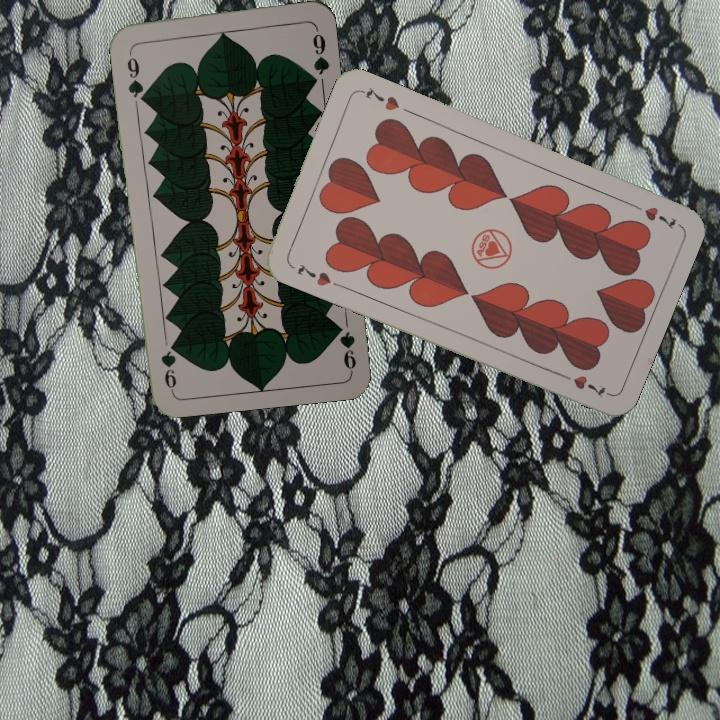G9: (332, 319, 359, 373), (123, 45, 148, 103)
H7: (625, 198, 681, 232), (293, 259, 343, 290)
